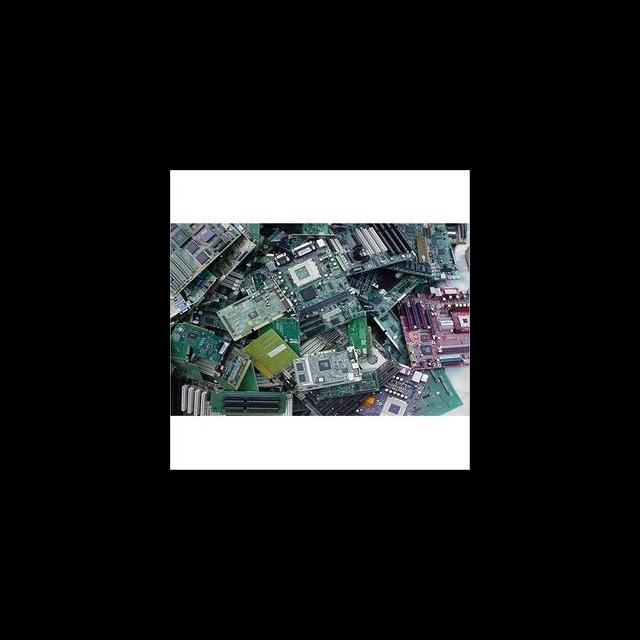metal: (390, 285, 469, 373), (211, 278, 317, 341), (170, 315, 252, 390), (347, 352, 433, 415), (176, 378, 299, 416), (286, 344, 370, 389), (236, 326, 305, 380)
